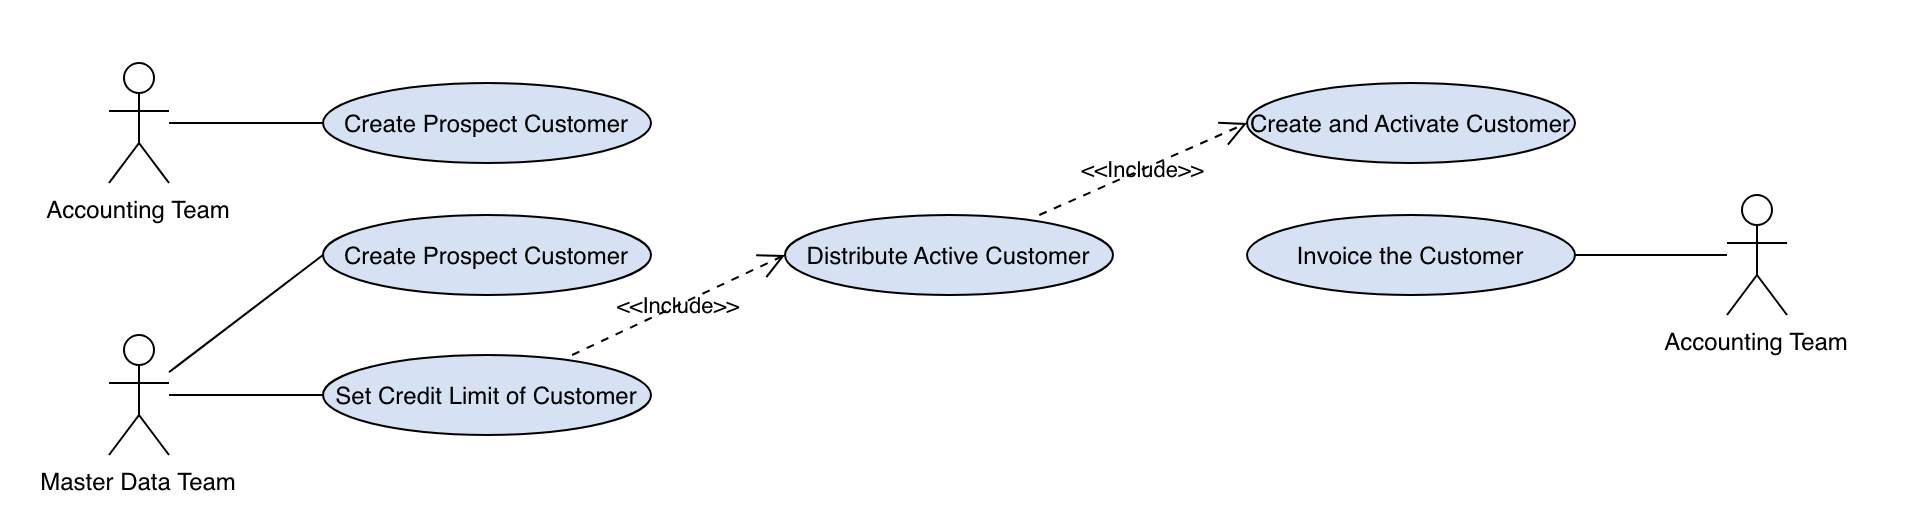actor: (103, 57, 179, 190), (105, 332, 175, 462), (1723, 193, 1793, 318)
association: (570, 250, 789, 356), (1037, 119, 1252, 217), (168, 254, 323, 375), (171, 102, 323, 145), (1576, 238, 1725, 274), (169, 377, 322, 411)
text: (329, 383, 637, 414), (338, 108, 631, 139), (1248, 110, 1578, 137), (1281, 236, 1536, 271), (34, 466, 256, 505), (338, 242, 628, 271), (38, 194, 238, 231), (1652, 330, 1856, 358), (1077, 158, 1211, 185), (614, 290, 741, 319)
use_case: (779, 212, 1118, 300), (322, 79, 655, 167), (317, 210, 651, 299), (1244, 79, 1578, 167), (322, 351, 653, 439), (1244, 212, 1580, 295)
